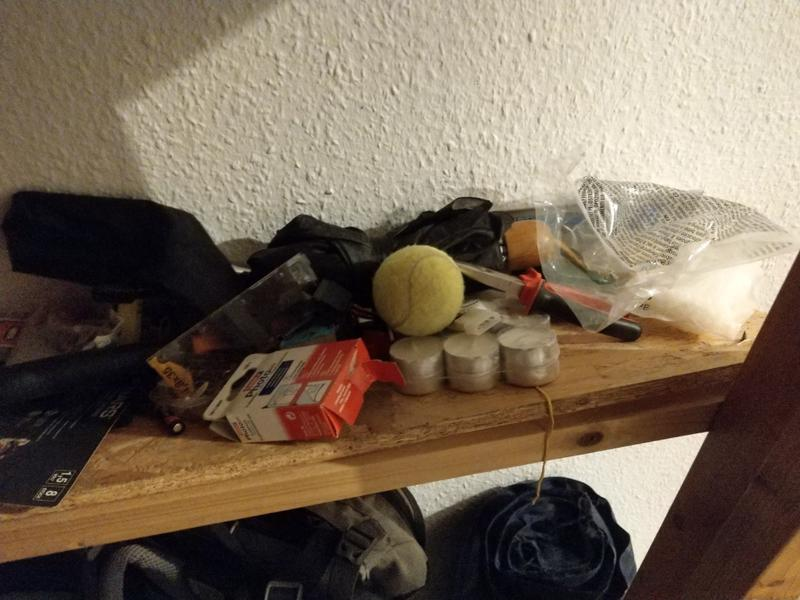Tennisball: (367, 242, 467, 341)
